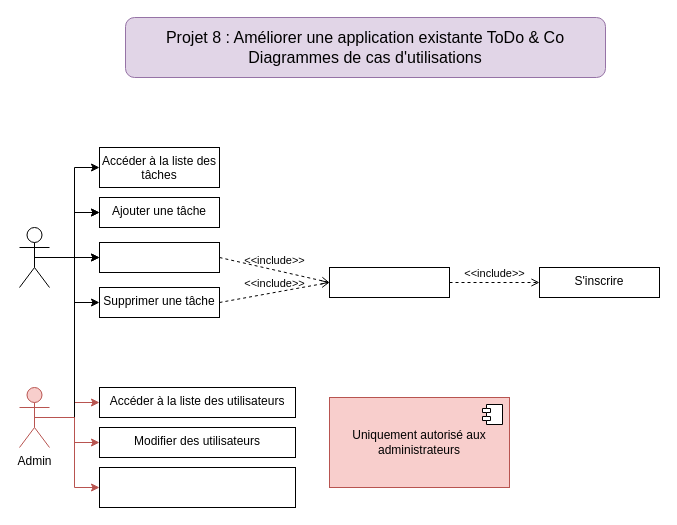
The diagram is 677 pixels wide and 525 high, and some of its shapes have lost their labels. The shapes that lost their labels are listed below. From the top down, each one's centre as x and y in pixels, then its label:
At point 34,257: "User".
At point 159,257: "Modifier une tâche".
At point 389,282: "Se connecter".
At point 197,487: "Supprimer une tâche liée à un utilisateur anonyme".
